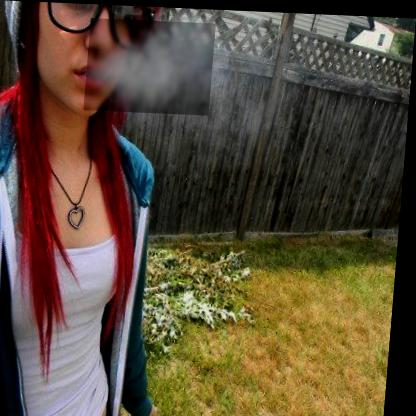smoke: (85, 17, 216, 114)
